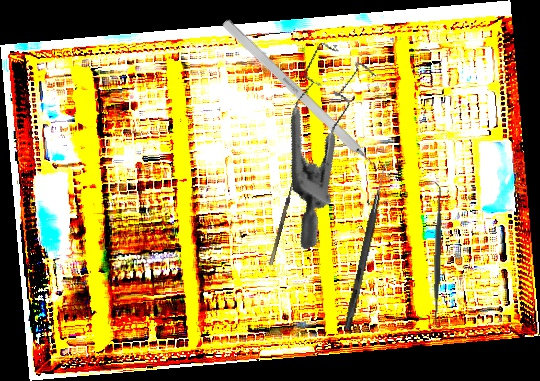Hook Surgical: (221, 18, 393, 184), (343, 162, 389, 331), (263, 164, 300, 266)
Spatula Surgical: (426, 182, 449, 328)
Speculum: (232, 29, 427, 251)
